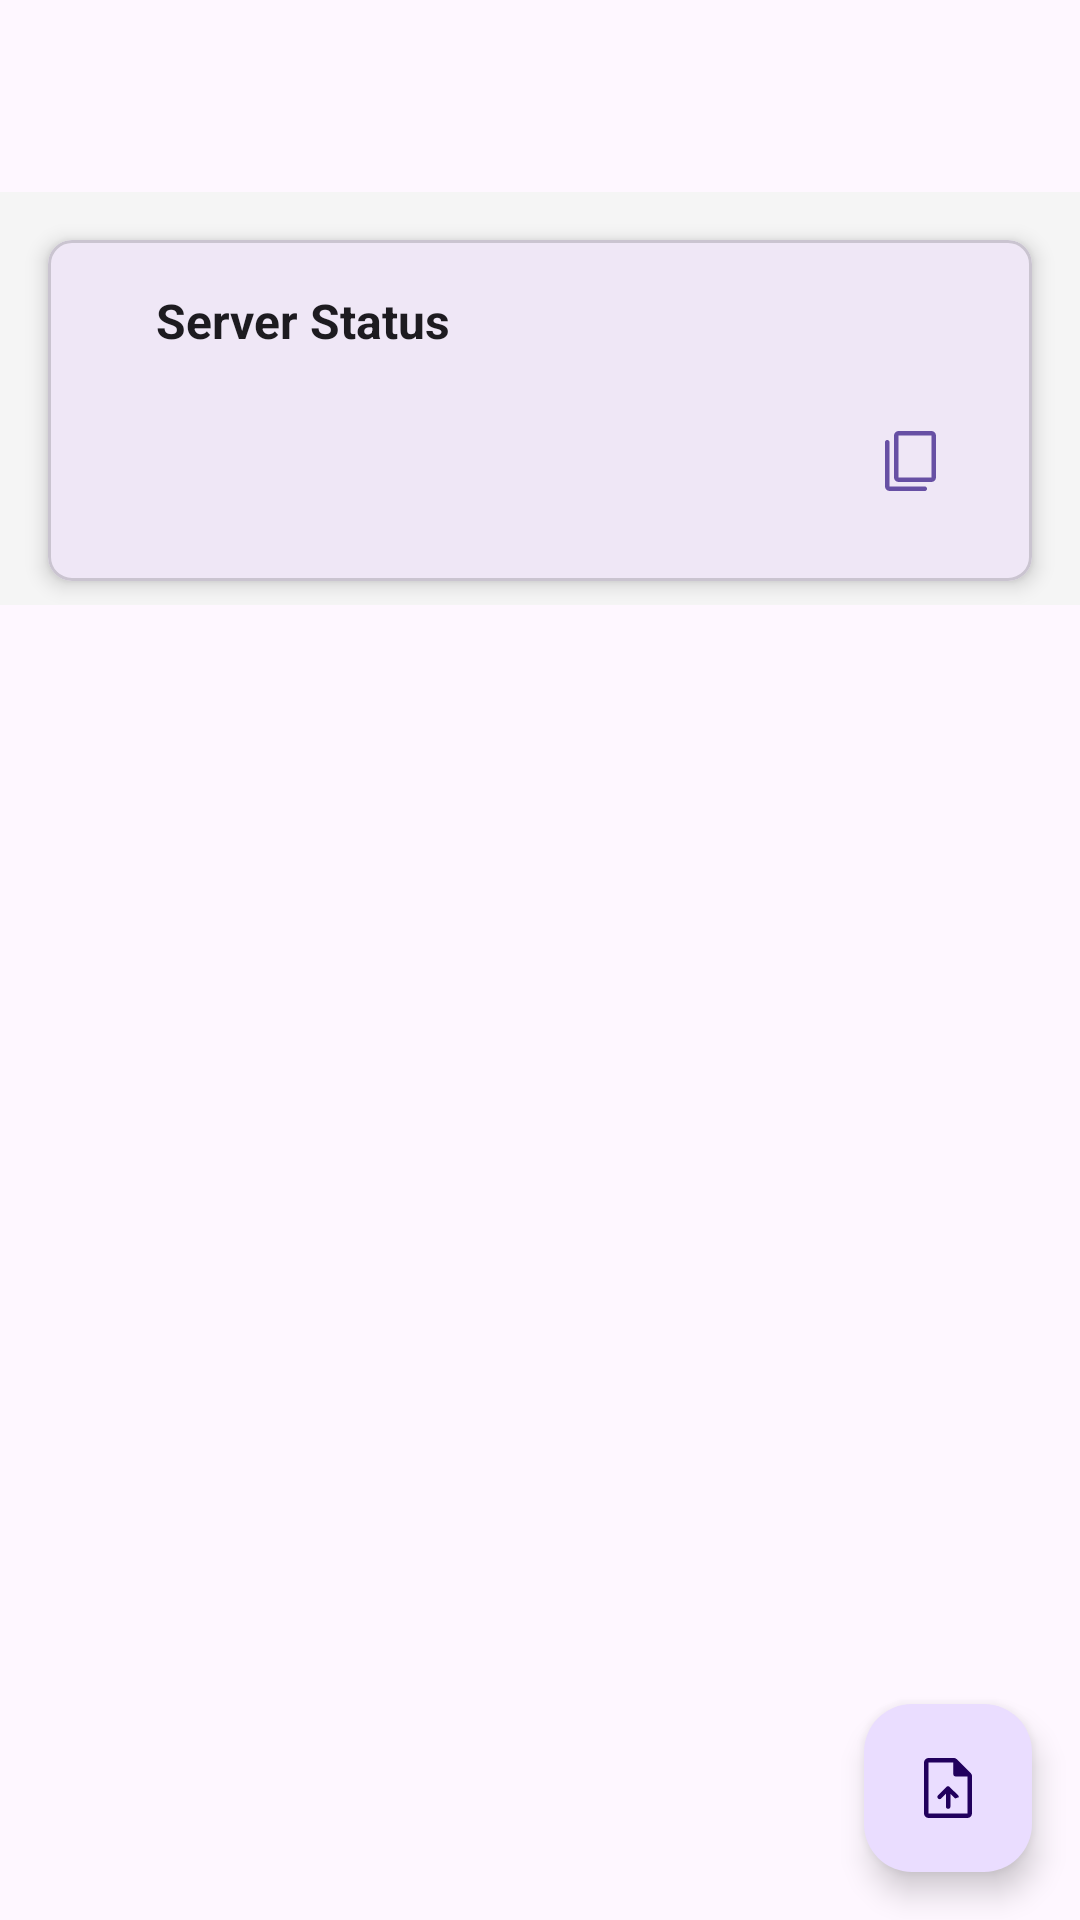

Icon bounding boxes for this 1080x1920 phone screenshot, format (x1, y1, x2, y2):
Copy IP Address: (885, 431, 936, 491)
Upload File: (864, 1704, 1032, 1872)
